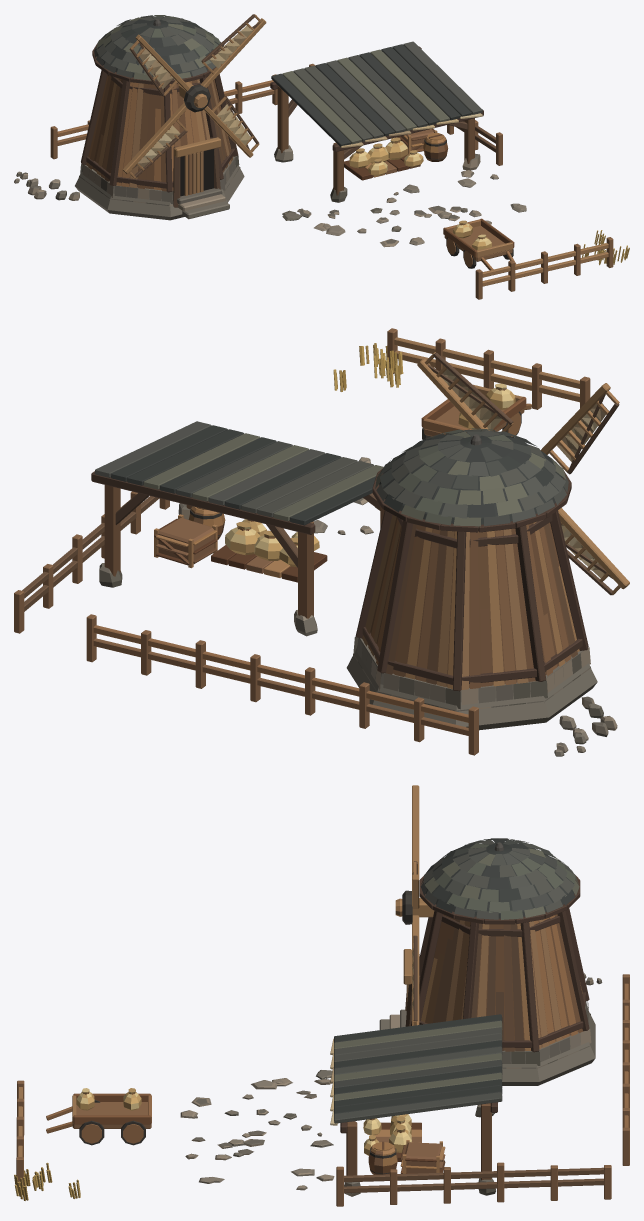
File: seed-mill.glb
3 renders of one model, top to bottom at view 1: azimuth 30°, elevation 25°; view 2: azimuth 150°, elevation 25°; view 3: azimuth 270°, elevation 25°, orthographic. The views are drawn at different scales.
Visible parts, largest first — view 1: 01 · Dry-stone plinth, tapered stave mill and slate cap, 03 · Covered receiving bay and unobstructed stone apron, 04 · Sparse cart and grain dressing at the yard margins, 02 · Cross-sail lattice, aged oat canvas and fixed axle; view 2: 01 · Dry-stone plinth, tapered stave mill and slate cap, 03 · Covered receiving bay and unobstructed stone apron, 04 · Sparse cart and grain dressing at the yard margins, 02 · Cross-sail lattice, aged oat canvas and fixed axle; view 3: 01 · Dry-stone plinth, tapered stave mill and slate cap, 03 · Covered receiving bay and unobstructed stone apron, 04 · Sparse cart and grain dressing at the yard margins, 02 · Cross-sail lattice, aged oat canvas and fixed axle.
Boxes of the visible parts, <box> form: 01 · Dry-stone plinth, tapered stave mill and slate cap: <box>75,15,244,220</box>; 03 · Covered receiving bay and unobstructed stone apron: <box>270,41,526,247</box>; 04 · Sparse cart and grain dressing at the yard margins: <box>14,63,629,299</box>; 02 · Cross-sail lattice, aged oat canvas and fixed axle: <box>122,14,266,178</box>; 01 · Dry-stone plinth, tapered stave mill and slate cap: <box>346,428,597,730</box>; 03 · Covered receiving bay and unobstructed stone apron: <box>91,421,384,636</box>; 04 · Sparse cart and grain dressing at the yard margins: <box>14,328,617,756</box>; 02 · Cross-sail lattice, aged oat canvas and fixed axle: <box>417,352,629,595</box>; 01 · Dry-stone plinth, tapered stave mill and slate cap: <box>379,838,595,1085</box>; 03 · Covered receiving bay and unobstructed stone apron: <box>180,1014,502,1196</box>; 04 · Sparse cart and grain dressing at the yard margins: <box>14,973,629,1206</box>; 02 · Cross-sail lattice, aged oat canvas and fixed axle: <box>395,785,434,1025</box>.
Bounding box in the file's own units: 18.17 × 8.48 × 20.67.
Materials: 1 (1 with a texture image).
